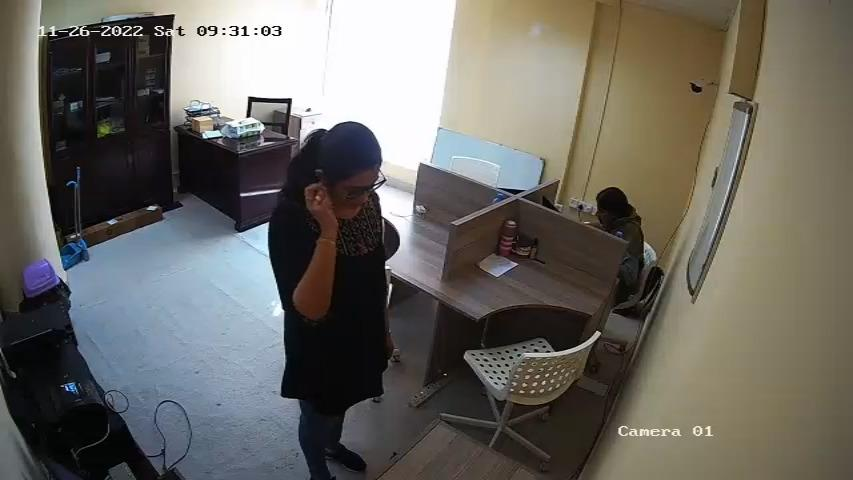no_apron: (335, 211, 390, 390)
